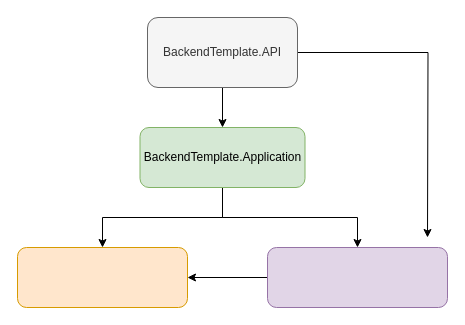
Image size: 465x325. Some labels were removed from this diagram. Here are the shapes that lost their labels. From the top down, the centre of each, then its label:
At point 102,277: "BackendTemplate.Domain".
At point 357,277: "BackendTemplate.Infrastructure".
